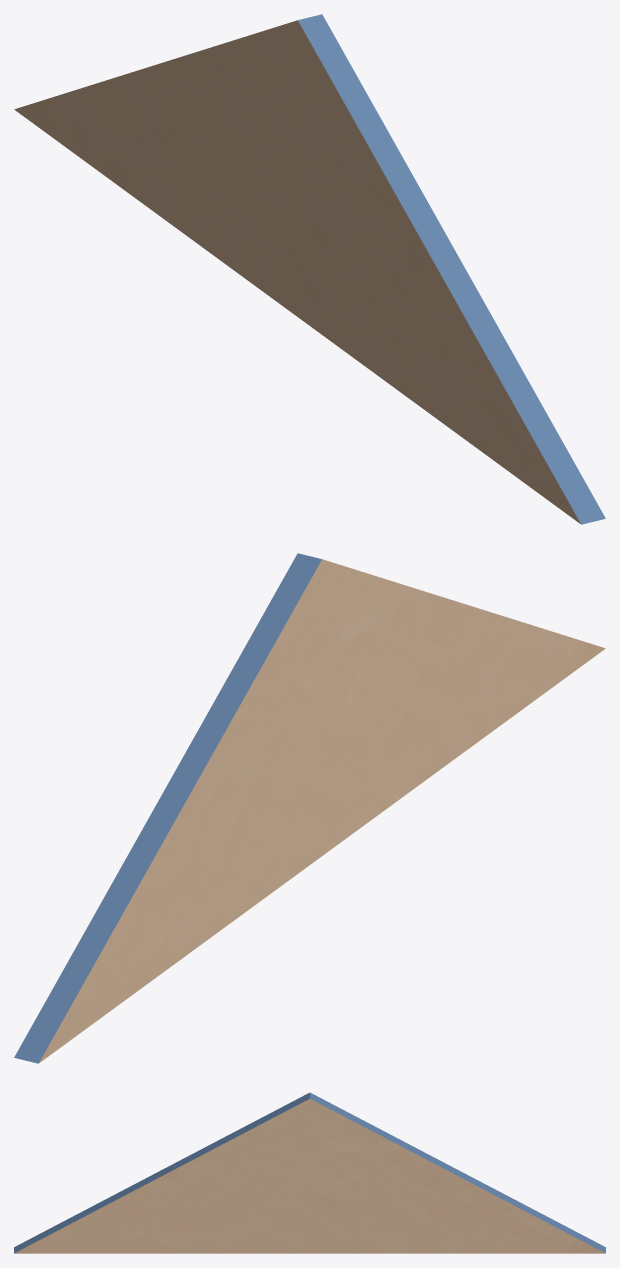
Rendered from Roof_GableEnd_4m.fbx.
The picture shows the model from 3 angles, top to bottom: view 1: azimuth 30°, elevation 25°; view 2: azimuth 150°, elevation 25°; view 3: azimuth 270°, elevation 25°; orthographic projection. The views are drawn at different scales.
Parts seen in each view (by area): view 1: Roof_GableEnd_4m; view 2: Roof_GableEnd_4m; view 3: Roof_GableEnd_4m.
Part boxes in pixels (x1,y1,x2,y2): Roof_GableEnd_4m: (14, 14, 605, 524); Roof_GableEnd_4m: (14, 553, 605, 1063); Roof_GableEnd_4m: (14, 1092, 605, 1253).
Size of the model in its own units: 0.1 by 1.15 by 4.
1 material, 1 textured.
